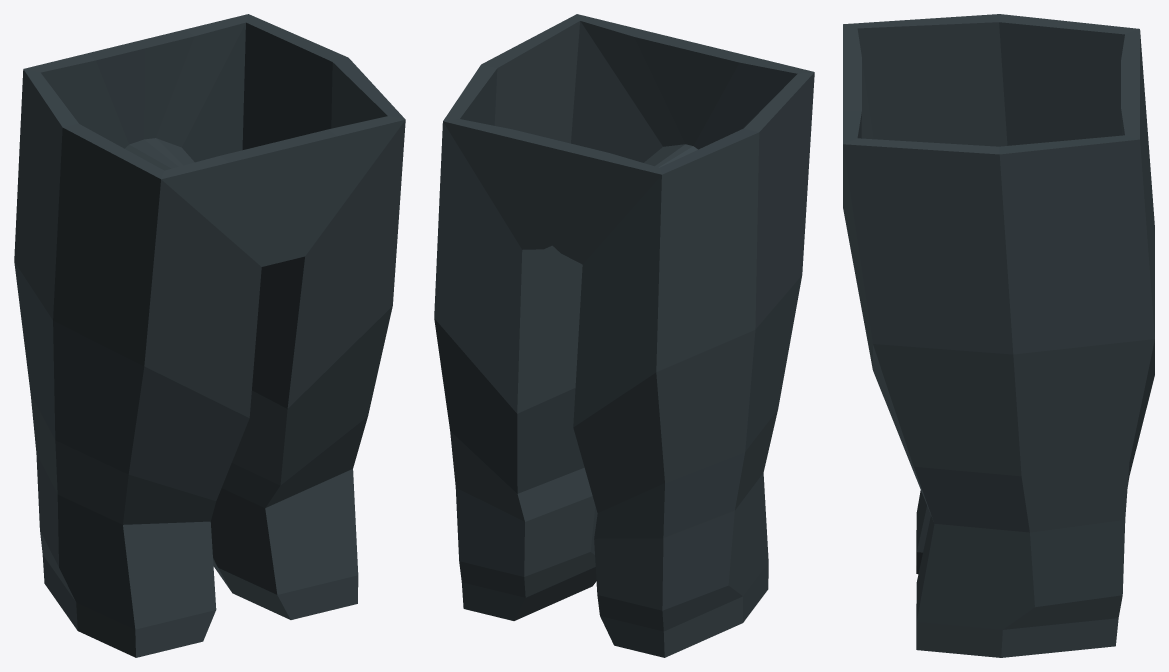
The model's file is lowpoly_FPS_Human_Pants.fbx.
The picture shows the model from 3 angles, left to right: view 1: azimuth 30°, elevation 25°; view 2: azimuth 150°, elevation 25°; view 3: azimuth 270°, elevation 25°; orthographic projection. The views are drawn at different scales.
Visible parts, largest first — view 1: Pants; view 2: Pants; view 3: Pants.
Part boxes in pixels (x1=…): Pants: x1=14, y1=14, x2=405, y2=657; Pants: x1=434, y1=14, x2=814, y2=657; Pants: x1=843, y1=14, x2=1154, y2=657.
Size of the model in its own units: 0.3345 by 0.3079 by 0.5578.
Materials: 1 (1 with a texture image).
